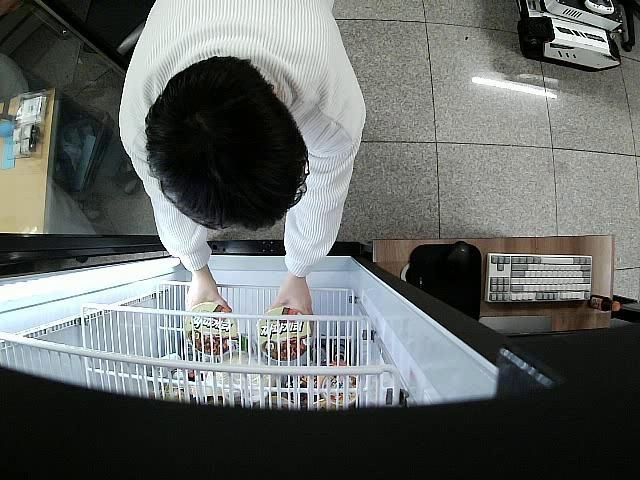03_chapagetti_L: (183, 302, 239, 356), (258, 308, 314, 362)
